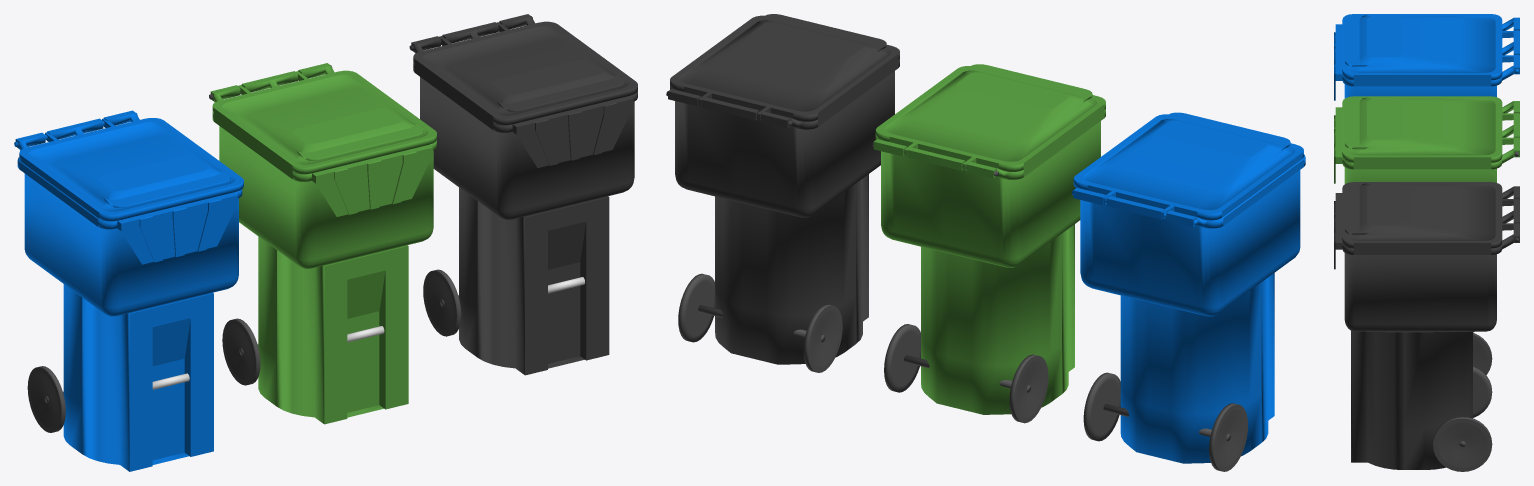
The model's file is bins.glb.
3 views of the same model, side by side, from view 1: azimuth 30°, elevation 25°; view 2: azimuth 150°, elevation 25°; view 3: azimuth 270°, elevation 25° (orthographic). The views are drawn at different scales.
Parts seen in each view (by area): view 1: Blue Trash Cart, Black Trash Cart, Green Trash Cart, Blue Lid, Black Lid, Green Lid; view 2: Blue Trash Cart, Black Trash Cart, Green Trash Cart, Green Lid, Blue Lid, Black Lid; view 3: Black Trash Cart, Green Lid, Black Lid, Blue Lid, Green Trash Cart, Blue Trash Cart.
Part boxes in pixels (x1,y1,x2,y2): Blue Trash Cart: (14, 110, 242, 471); Black Trash Cart: (409, 14, 637, 375); Green Trash Cart: (209, 63, 436, 424); Blue Lid: (19, 118, 243, 221); Black Lid: (413, 21, 637, 125); Green Lid: (212, 70, 436, 174); Blue Trash Cart: (1072, 154, 1305, 471); Black Trash Cart: (666, 59, 899, 372); Green Trash Cart: (872, 109, 1105, 423); Green Lid: (875, 64, 1105, 171); Blue Lid: (1073, 112, 1303, 220); Black Lid: (670, 14, 899, 121); Black Trash Cart: (1334, 186, 1519, 471); Green Lid: (1342, 96, 1519, 162); Black Lid: (1342, 182, 1519, 248); Blue Lid: (1342, 14, 1518, 80); Green Trash Cart: (1334, 101, 1519, 375); Blue Trash Cart: (1334, 17, 1519, 100).
Size of the model in its own units: 9.74 by 4.74 by 3.33.
